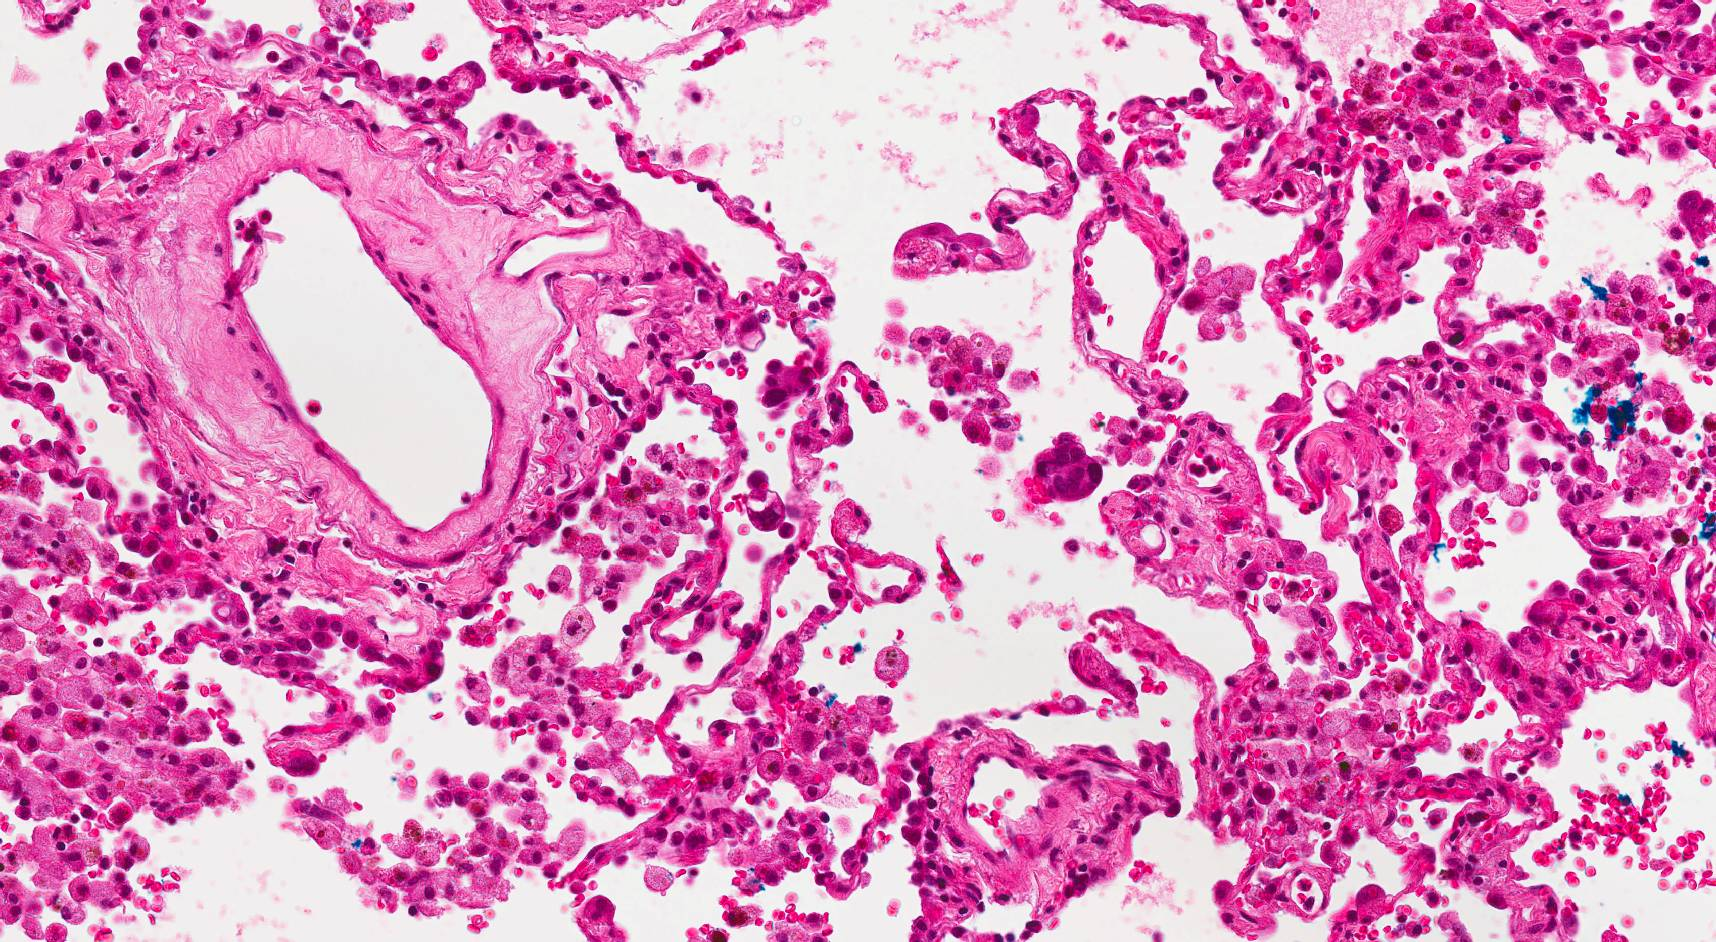stas: (1032, 432, 1107, 502), (755, 358, 817, 407), (742, 472, 786, 532)
